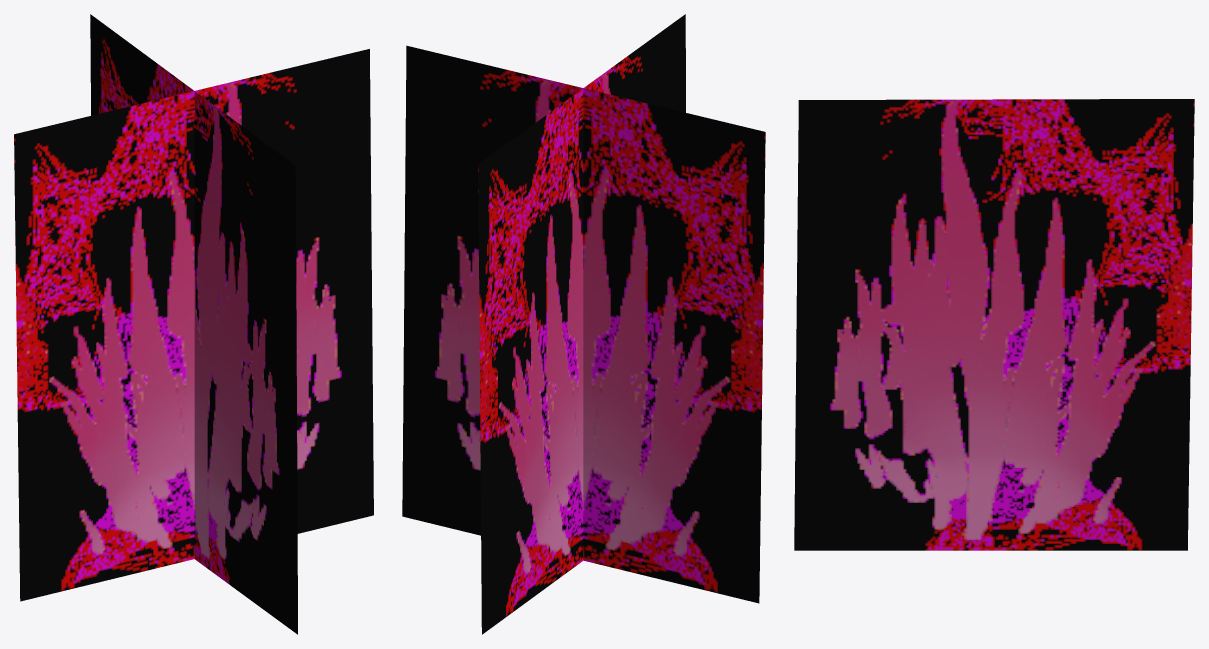
Rendered from ViscoseSalviaGrass.fbx.
3 views of the same model, side by side, from view 1: azimuth 30°, elevation 25°; view 2: azimuth 150°, elevation 25°; view 3: azimuth 270°, elevation 25° (orthographic). The views are drawn at different scales.
Visible parts, largest first — view 1: Вязкие слюни трава; view 2: Вязкие слюни трава; view 3: Вязкие слюни трава.
Part boxes in pixels (x1,y1,x2,y2): Вязкие слюни трава: (14,14,373,634); Вязкие слюни трава: (402,14,765,634); Вязкие слюни трава: (794,99,1194,550).
Bounding box in the file's own units: 68.99 × 85.87 × 68.99.
